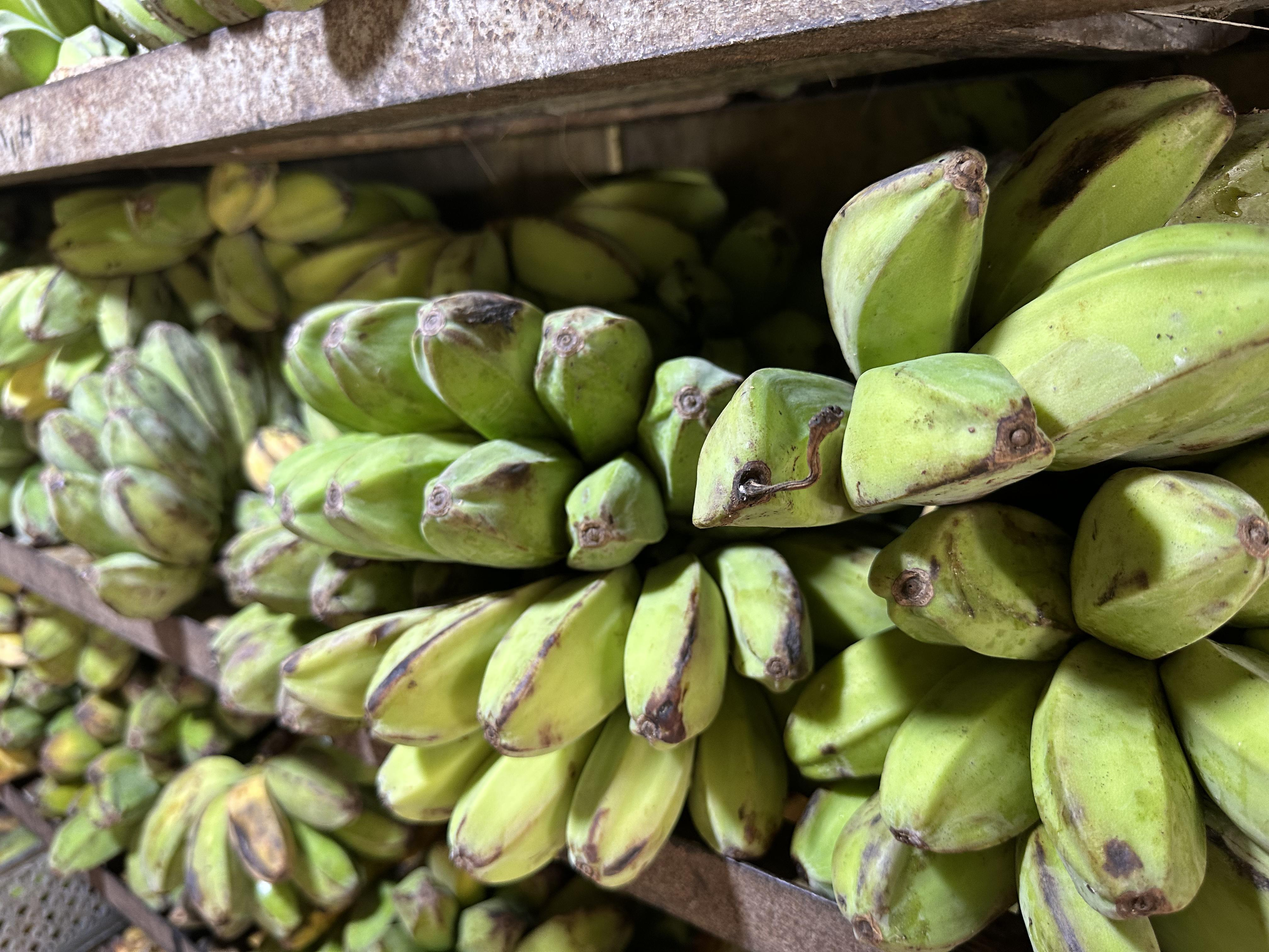underripe: (693, 76, 1269, 529), (785, 440, 1269, 952), (281, 534, 891, 888), (275, 291, 740, 570), (40, 317, 293, 619), (50, 162, 436, 332), (284, 170, 726, 307), (125, 753, 418, 938), (213, 521, 492, 715), (30, 665, 234, 875), (0, 260, 222, 422), (615, 210, 826, 373), (341, 842, 634, 952), (0, 579, 139, 784)
